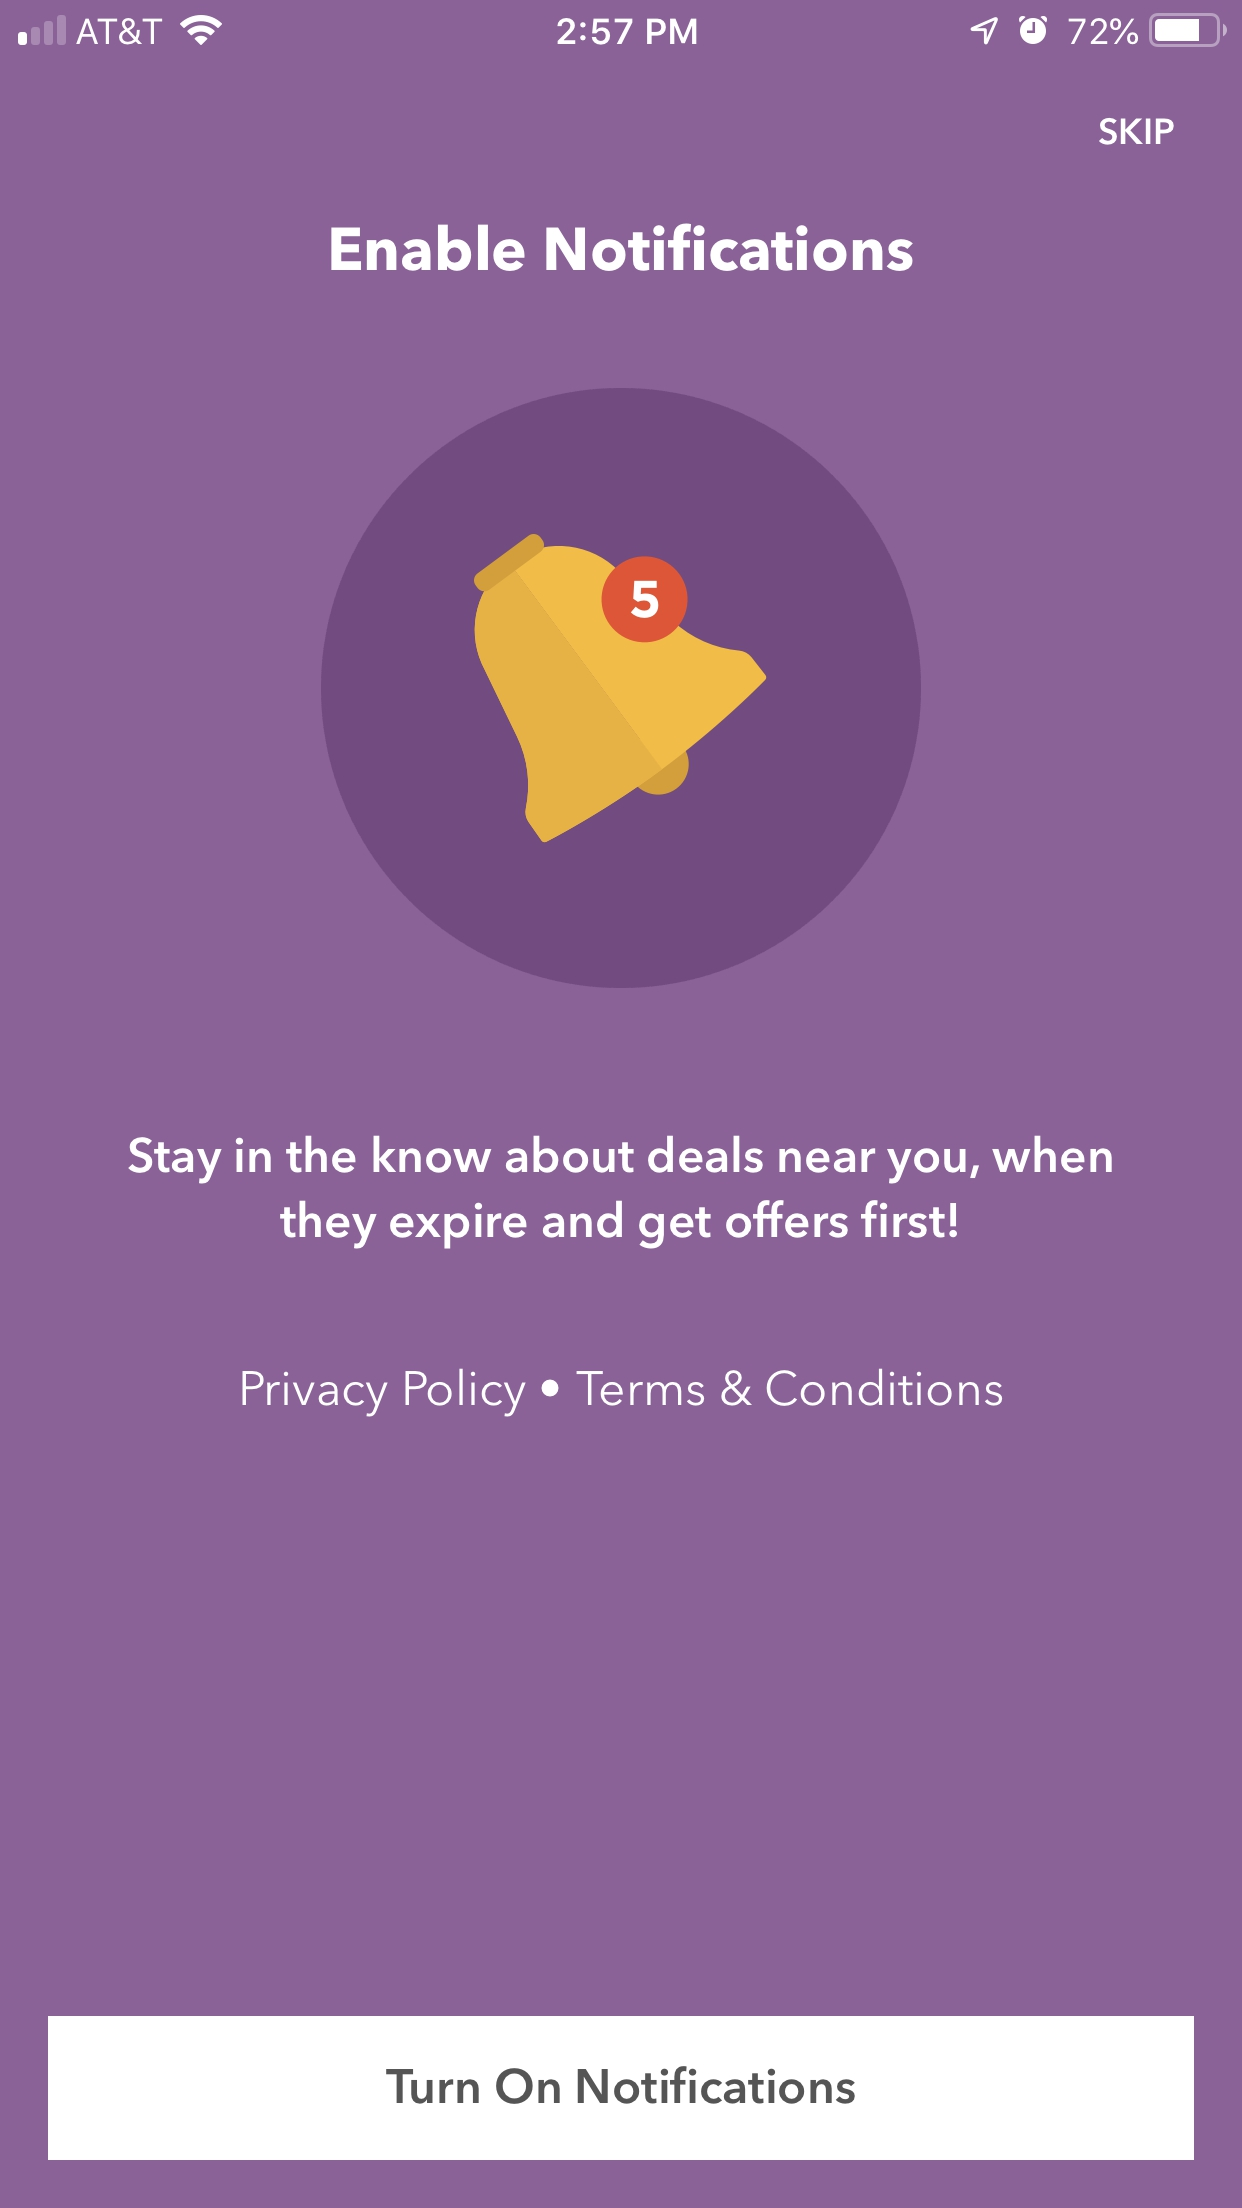Image: (321, 387, 924, 990)
Text: (127, 1134, 1113, 1250), (241, 1368, 1002, 1418), (331, 223, 914, 273), (1099, 118, 1175, 147)
TextButton: (49, 2015, 1195, 2161)
UpperTaskBar: (2, 2, 1242, 49)
